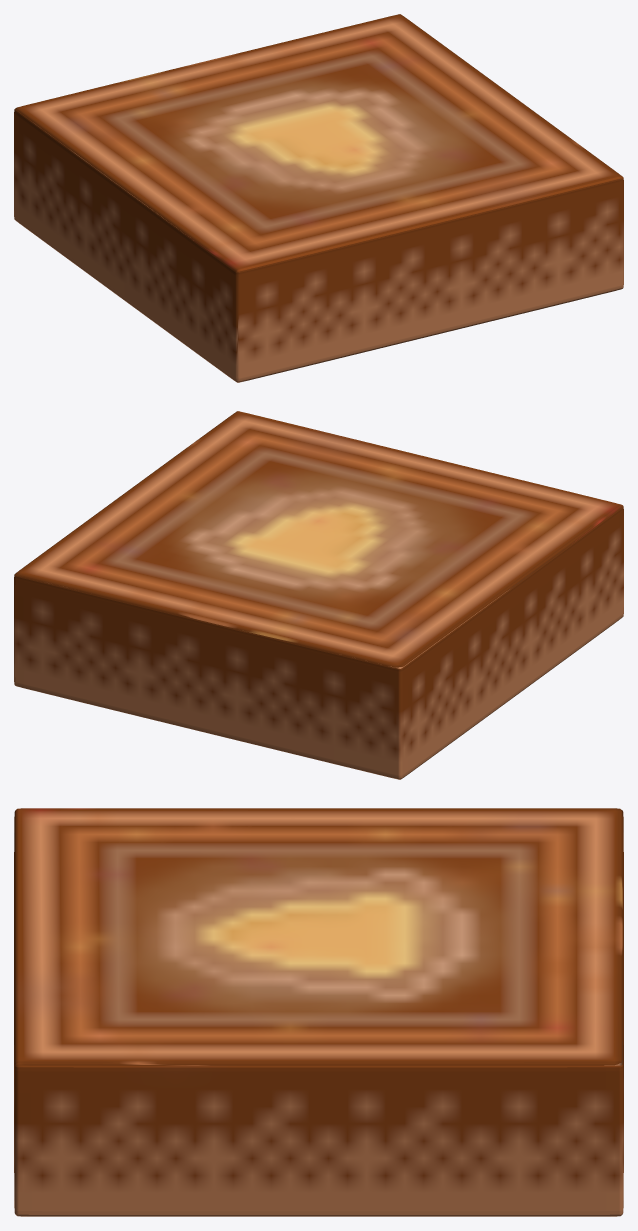
Rendered from PixelTileGuard.fbx.
The picture shows the model from 3 angles, top to bottom: view 1: azimuth 30°, elevation 25°; view 2: azimuth 150°, elevation 25°; view 3: azimuth 270°, elevation 25°; orthographic projection. The views are drawn at different scales.
Parts seen in each view (by area): view 1: PixelBasic; view 2: PixelBasic; view 3: PixelBasic.
Part boxes in pixels (x1,y1,x2,y2): PixelBasic: (14, 14, 623, 382); PixelBasic: (14, 411, 623, 779); PixelBasic: (14, 808, 623, 1216).
Size of the model in its own units: 99.99 by 28.04 by 99.99.
Materials: 1 (1 with a texture image).
